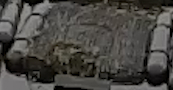bag: (6, 3, 173, 83)
